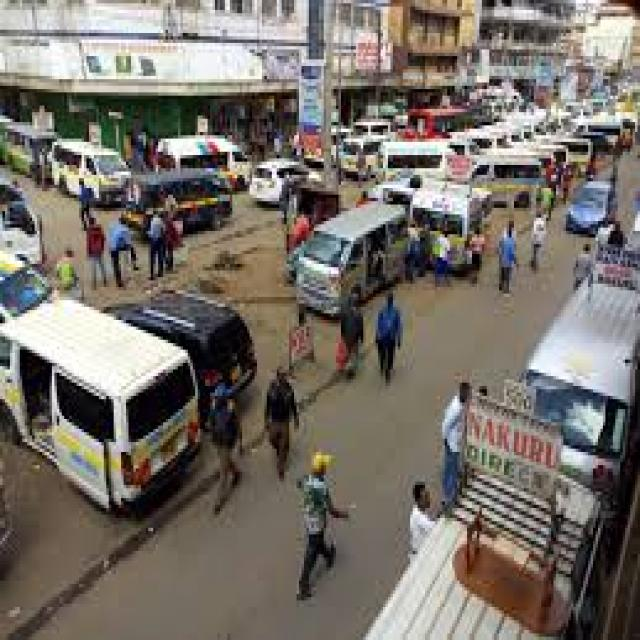bus: (389, 90, 492, 138), (0, 195, 48, 266)
matatu: (0, 307, 198, 548), (351, 494, 629, 640), (284, 214, 420, 330), (530, 338, 636, 482), (124, 155, 235, 235), (424, 167, 493, 287), (52, 126, 110, 228), (0, 119, 50, 191), (499, 148, 544, 208), (339, 134, 381, 177)
